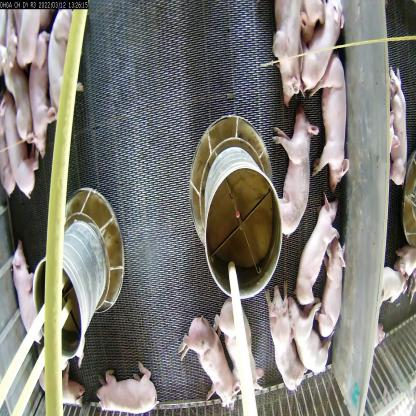Pig: (271, 93, 320, 245), (179, 300, 243, 415), (257, 275, 308, 406), (295, 190, 339, 308), (316, 48, 353, 188), (287, 287, 335, 376), (8, 230, 42, 353), (88, 360, 163, 415), (27, 39, 61, 153), (49, 3, 83, 111), (386, 53, 408, 200), (321, 231, 345, 344)
